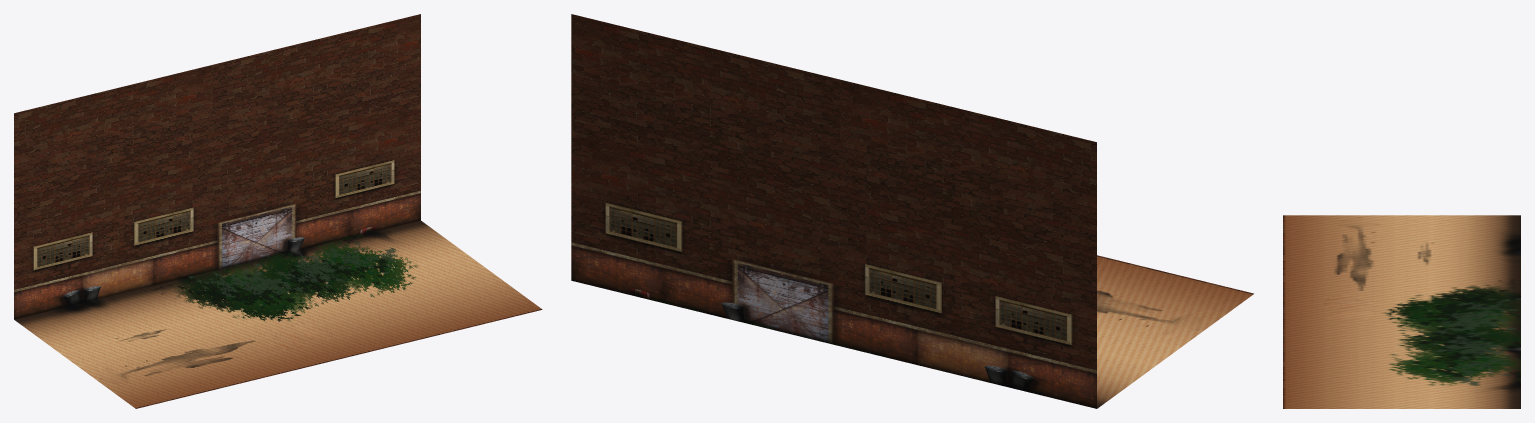
Rendered from background 3.FBX.
3 renders of one model, left to right at view 1: azimuth 30°, elevation 25°; view 2: azimuth 150°, elevation 25°; view 3: azimuth 270°, elevation 25°, orthographic. The views are drawn at different scales.
Parts seen in each view (by area): view 1: Plane003; view 2: Plane003; view 3: Plane003.
Part boxes in pixels (x1,y1,x2,y2): Plane003: (14,14,542,408); Plane003: (571,14,1253,408); Plane003: (1283,215,1520,408).
Size of the model in its own units: 1.26 by 0.6096 by 0.6526.
1 material, 1 textured.
